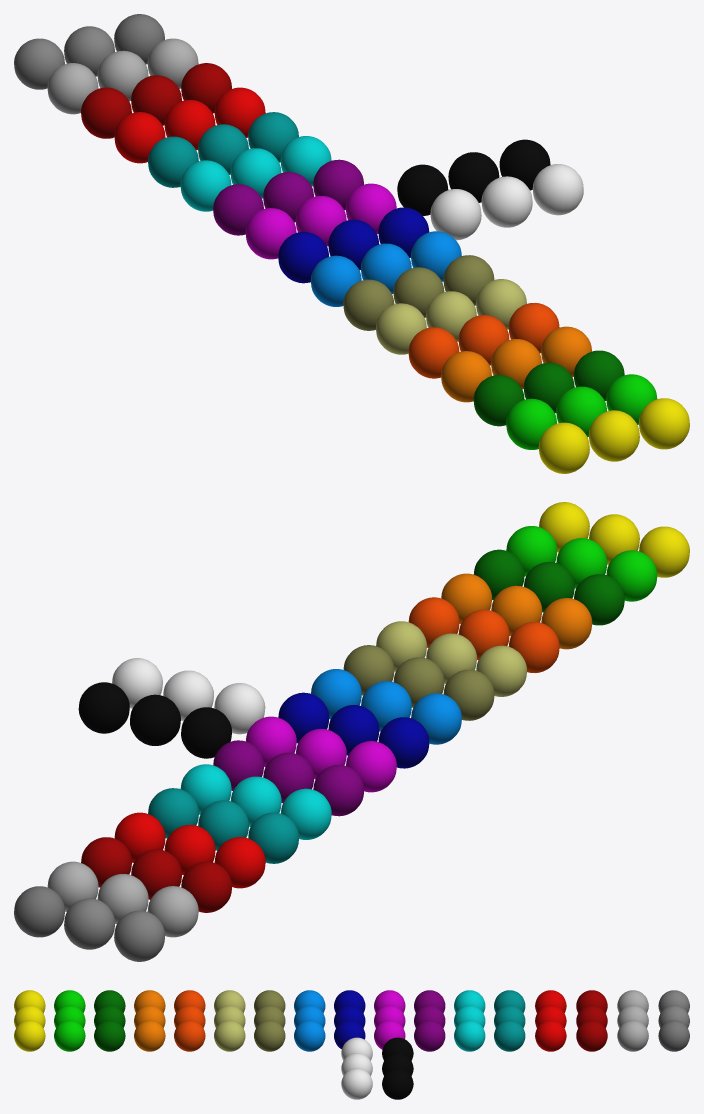
File: WW_palette.fbx
The picture shows the model from 3 angles, top to bottom: view 1: azimuth 30°, elevation 25°; view 2: azimuth 150°, elevation 25°; view 3: azimuth 270°, elevation 25°; orthographic projection. The views are drawn at different scales.
Parts seen in each view (by area): view 1: pSphere63, pSphere57, pSphere58, pSphere64, pSphere59, pSphere65, pSphere12, pSphere7, pSphere22, pSphere17, pSphere46, pSphere25 (+45 smaller); view 2: pSphere62, pSphere23, pSphere22, pSphere21, pSphere61, pSphere60, pSphere17, pSphere12, pSphere7, pSphere1, pSphere34, pSphere55 (+45 smaller); view 3: pSphere13, pSphere64, pSphere18, pSphere26, pSphere3, pSphere21, pSphere38, pSphere56, pSphere53, pSphere50, pSphere47, pSphere44 (+45 smaller).
Part boxes in pixels (bbox=[...]): pSphere63: bbox=[481, 176, 532, 227]; pSphere57: bbox=[589, 410, 639, 461]; pSphere58: bbox=[538, 422, 589, 473]; pSphere64: bbox=[532, 164, 583, 215]; pSphere59: bbox=[639, 398, 689, 449]; pSphere65: bbox=[430, 189, 481, 240]; pSphere12: bbox=[81, 87, 131, 138]; pSphere7: bbox=[114, 112, 165, 163]; pSphere22: bbox=[14, 38, 64, 89]; pSphere17: bbox=[47, 63, 98, 114]; pSphere46: bbox=[408, 327, 459, 378]; pSphere25: bbox=[180, 160, 231, 211]; pSphere62: bbox=[78, 682, 129, 733]; pSphere23: bbox=[64, 898, 114, 949]; pSphere22: bbox=[114, 910, 165, 961]; pSphere21: bbox=[14, 886, 64, 937]; pSphere61: bbox=[130, 694, 180, 745]; pSphere60: bbox=[181, 707, 231, 758]; pSphere17: bbox=[147, 886, 198, 937]; pSphere12: bbox=[181, 861, 232, 912]; pSphere7: bbox=[214, 837, 265, 888]; pSphere1: bbox=[248, 812, 298, 863]; pSphere34: bbox=[378, 717, 429, 768]; pSphere55: bbox=[606, 550, 657, 601]; pSphere13: bbox=[576, 1020, 607, 1051]; pSphere64: bbox=[341, 1068, 372, 1099]; pSphere18: bbox=[617, 1020, 648, 1051]; pSphere26: bbox=[454, 1020, 485, 1051]; pSphere3: bbox=[494, 1020, 525, 1051]; pSphere21: bbox=[658, 1020, 689, 1051]; pSphere38: bbox=[294, 1020, 325, 1051]; pSphere56: bbox=[54, 1020, 85, 1051]; pSphere53: bbox=[94, 1020, 125, 1051]; pSphere50: bbox=[134, 1020, 165, 1051]; pSphere47: bbox=[174, 1020, 205, 1051]; pSphere44: bbox=[214, 1020, 245, 1051].
Size of the model in its own units: 13.7 by 2 by 42.83.
